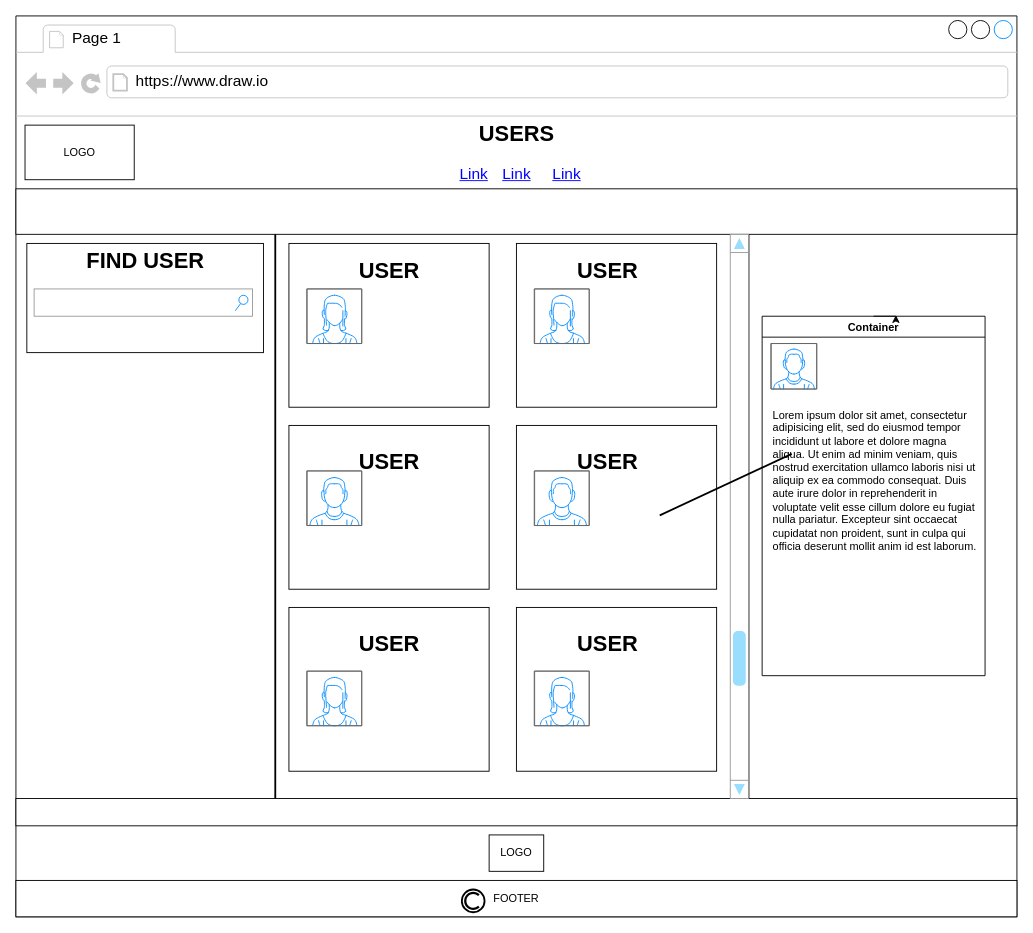
This 1033x933 diagram has some shape labels left out. Here are the shapes that lost their labels. From the top down, the centre of each, then its label:
the point at 516,211: BANNER/ COOL PIC
the point at 143,302: Search
the point at 516,812: DISCLAIMER
